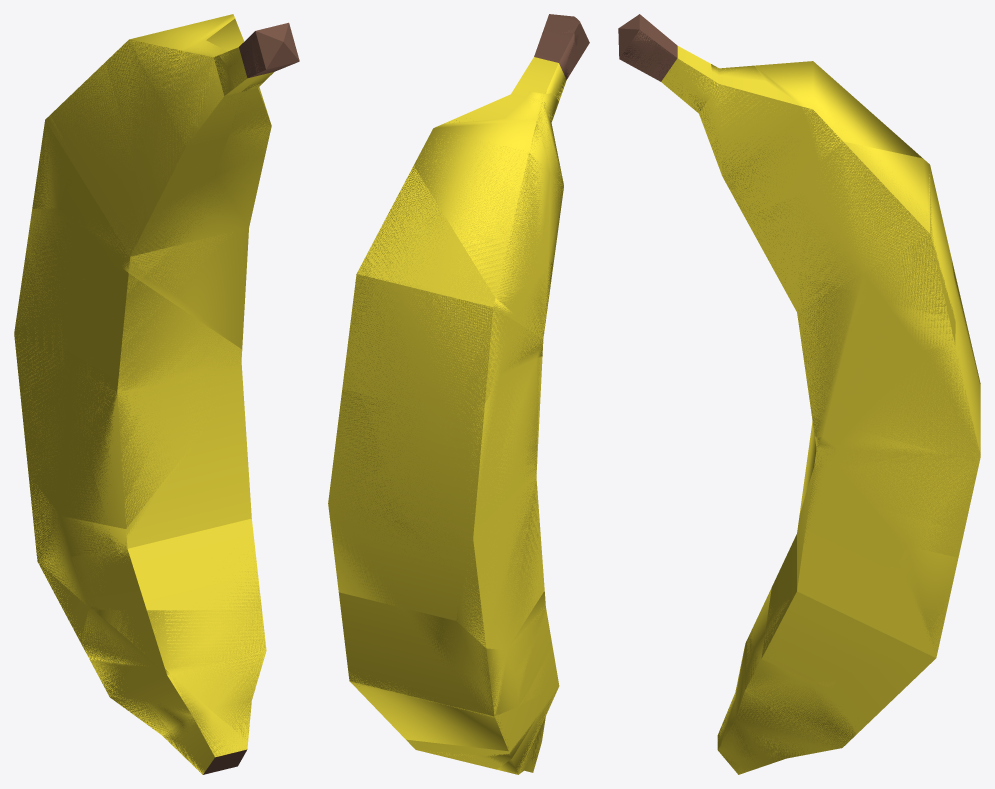
File: banana_fractured.glb
3 views of the same model, side by side, from view 1: azimuth 30°, elevation 25°; view 2: azimuth 150°, elevation 25°; view 3: azimuth 270°, elevation 25° (orthographic). The views are drawn at different scales.
Parts seen in each view (by area): view 1: pasted__pCube11 group, pasted__pCube11 group_cell.012, pasted__pCube11 group_cell.001, pasted__pCube11 group_cell.016, pasted__pCube11 group_cell.003, pasted__pCube11 group_cell.014, pasted__pCube11 group_cell, pasted__pCube11 group_cell.008, pasted__pCube11 group_cell.010, pasted__pCube11 group_cell.015, pasted__pCube11 group_cell.009; view 2: pasted__pCube11 group, pasted__pCube11 group_cell.003, pasted__pCube11 group_cell.012, pasted__pCube11 group_cell.010, pasted__pCube11 group_cell.009, pasted__pCube11 group_cell.006, pasted__pCube11 group_cell.008, pasted__pCube11 group_cell.001, pasted__pCube11 group_cell, pasted__pCube11 group_cell.014, pasted__pCube11 group_cell.016; view 3: pasted__pCube11 group, pasted__pCube11 group_cell.006, pasted__pCube11 group_cell.009, pasted__pCube11 group_cell.001, pasted__pCube11 group_cell.016, pasted__pCube11 group_cell.003, pasted__pCube11 group_cell.010, pasted__pCube11 group_cell.015, pasted__pCube11 group_cell.012, pasted__pCube11 group_cell.
Part boxes in pixels (x1=…): pasted__pCube11 group: x1=14, y1=18, x2=299, y2=774; pasted__pCube11 group_cell.012: x1=15, y1=208, x2=241, y2=528; pasted__pCube11 group_cell.001: x1=76, y1=156, x2=264, y2=349; pasted__pCube11 group_cell.016: x1=81, y1=609, x2=266, y2=739; pasted__pCube11 group_cell.003: x1=51, y1=14, x2=234, y2=188; pasted__pCube11 group_cell.014: x1=90, y1=660, x2=247, y2=774; pasted__pCube11 group_cell: x1=61, y1=421, x2=261, y2=609; pasted__pCube11 group_cell.008: x1=149, y1=40, x2=235, y2=191; pasted__pCube11 group_cell.010: x1=31, y1=480, x2=87, y2=637; pasted__pCube11 group_cell.015: x1=214, y1=80, x2=271, y2=174; pasted__pCube11 group_cell.009: x1=34, y1=115, x2=72, y2=208; pasted__pCube11 group: x1=328, y1=14, x2=589, y2=774; pasted__pCube11 group_cell.003: x1=413, y1=118, x2=549, y2=306; pasted__pCube11 group_cell.012: x1=456, y1=357, x2=540, y2=649; pasted__pCube11 group_cell.010: x1=349, y1=607, x2=519, y2=751; pasted__pCube11 group_cell.009: x1=343, y1=166, x2=514, y2=417; pasted__pCube11 group_cell.006: x1=328, y1=389, x2=464, y2=607; pasted__pCube11 group_cell.008: x1=504, y1=91, x2=563, y2=262; pasted__pCube11 group_cell.001: x1=501, y1=262, x2=553, y2=373; pasted__pCube11 group_cell: x1=507, y1=591, x2=546, y2=706; pasted__pCube11 group_cell.014: x1=497, y1=688, x2=556, y2=774; pasted__pCube11 group_cell.016: x1=437, y1=646, x2=555, y2=767; pasted__pCube11 group: x1=618, y1=14, x2=980, y2=774; pasted__pCube11 group_cell.006: x1=839, y1=292, x2=980, y2=555; pasted__pCube11 group_cell.009: x1=812, y1=141, x2=955, y2=349; pasted__pCube11 group_cell.001: x1=747, y1=192, x2=918, y2=437; pasted__pCube11 group_cell.016: x1=721, y1=588, x2=855, y2=762; pasted__pCube11 group_cell.003: x1=754, y1=61, x2=922, y2=162; pasted__pCube11 group_cell.010: x1=899, y1=546, x2=958, y2=650; pasted__pCube11 group_cell.015: x1=681, y1=76, x2=817, y2=216; pasted__pCube11 group_cell.012: x1=799, y1=257, x2=980, y2=513; pasted__pCube11 group_cell: x1=762, y1=467, x2=907, y2=689.
Size of the model in its own units: 20.76 by 97.95 by 43.17.
